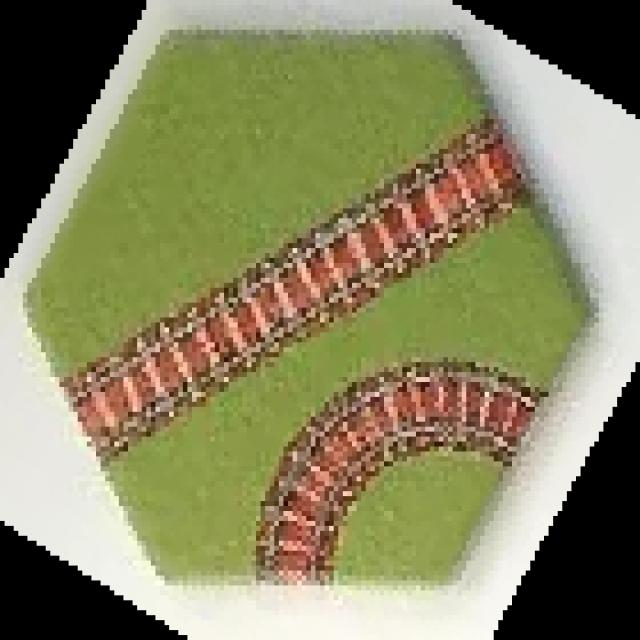4_1: (23, 30, 590, 585)
